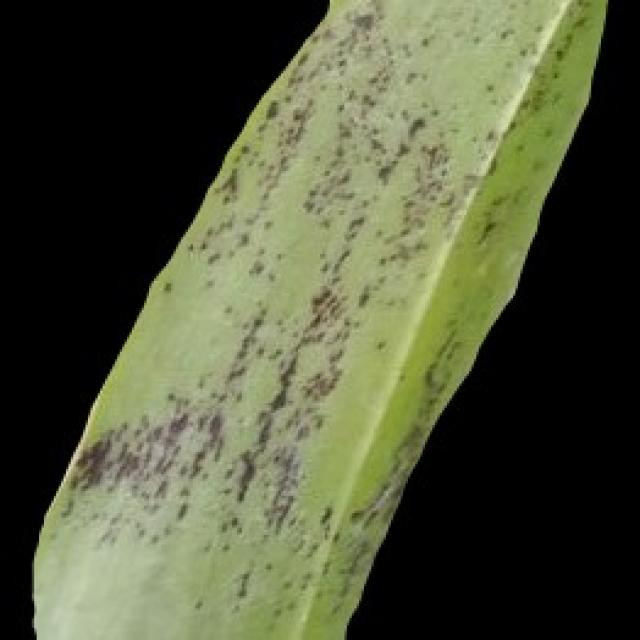mite: (210, 503, 249, 547), (225, 562, 256, 606), (469, 213, 501, 249), (313, 496, 337, 535), (215, 511, 242, 535), (230, 569, 252, 598), (474, 217, 496, 244), (318, 501, 332, 528)
spots: (27, 0, 616, 638)
